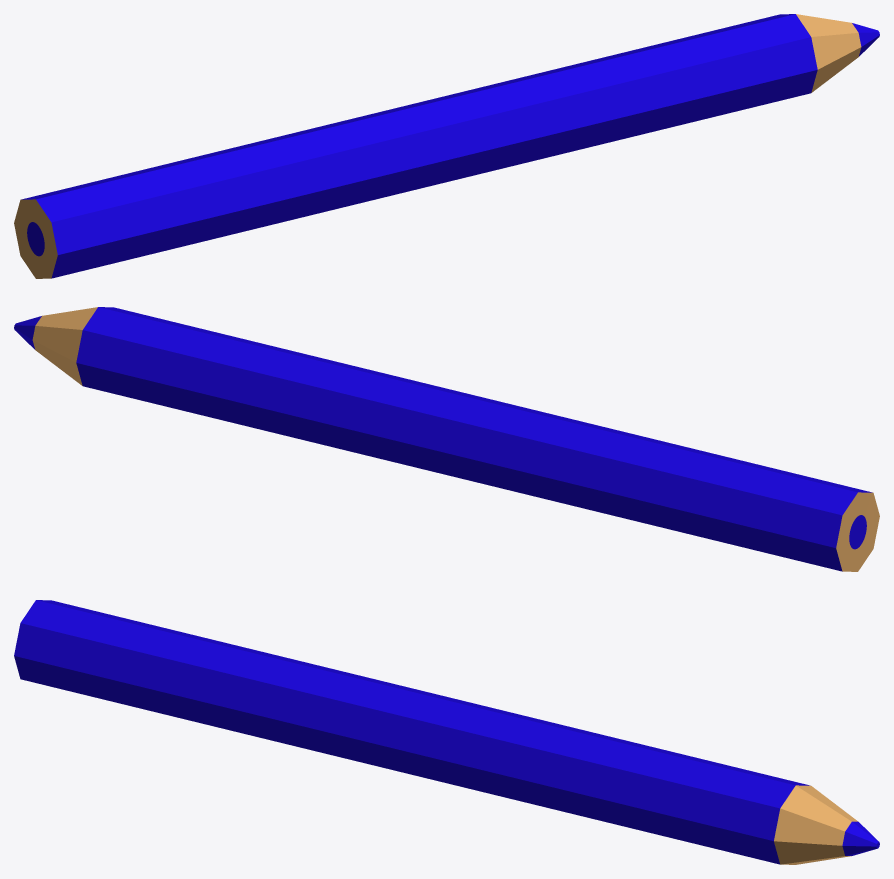
Rendered from colorpencil.fbx.
The picture shows the model from 3 angles, top to bottom: view 1: azimuth 30°, elevation 25°; view 2: azimuth 150°, elevation 25°; view 3: azimuth 330°, elevation 25°; orthographic projection.
Visible parts, largest first — view 1: Cube; view 2: Cube; view 3: Cube.
Boxes of the visible parts, box(x1,y1,x2,y2) form: Cube: box(14, 14, 879, 278); Cube: box(14, 307, 879, 571); Cube: box(14, 600, 879, 864).
Size of the model in its own units: 222 by 20 by 20.
